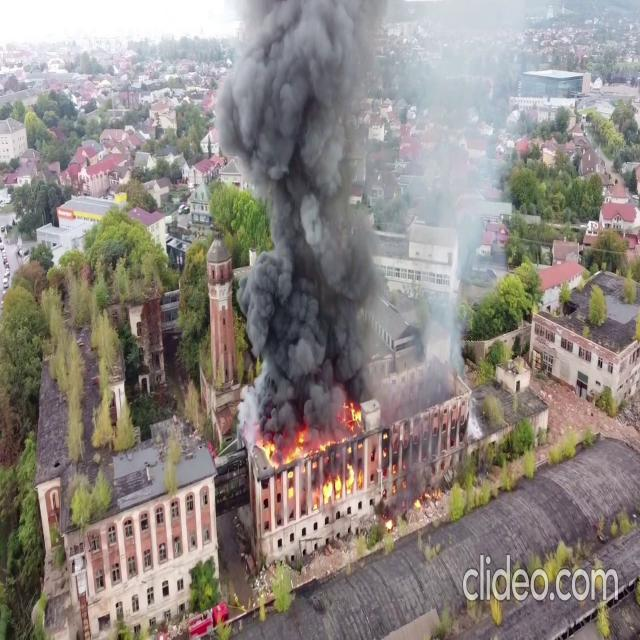Fire: (254, 411, 369, 483), (254, 420, 370, 470)
Smoke: (203, 2, 516, 410), (211, 0, 411, 424)
